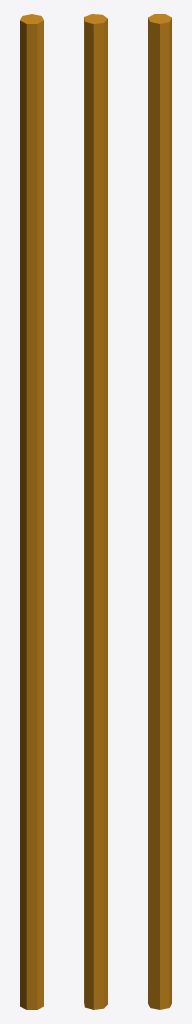
Rendered from Horse_Pole_08.obj.
3 views of the same model, side by side, from view 1: azimuth 90°, elevation 25°; view 2: azimuth 210°, elevation 25°; view 3: azimuth 270°, elevation 25° (orthographic).
Parts seen in each view (by area): view 1: Horse_Pole_08; view 2: Horse_Pole_08; view 3: Horse_Pole_08.
Part boxes in pixels (<box>): Horse_Pole_08: <box>20,14,43,1009</box>; Horse_Pole_08: <box>84,14,107,1009</box>; Horse_Pole_08: <box>148,14,171,1009</box>.
Bounding box in the file's own units: 0.0855 × 3.95 × 0.0877.
